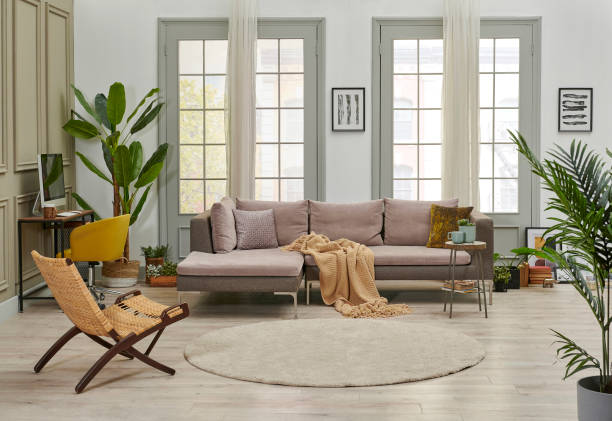chair: (28, 248, 190, 396), (50, 214, 131, 300)
large plant: (503, 129, 612, 421), (65, 85, 170, 285)
small plant: (495, 244, 529, 286), (137, 242, 168, 271)
sofa: (173, 194, 497, 317)
wall art: (329, 83, 367, 133), (556, 87, 595, 133)
